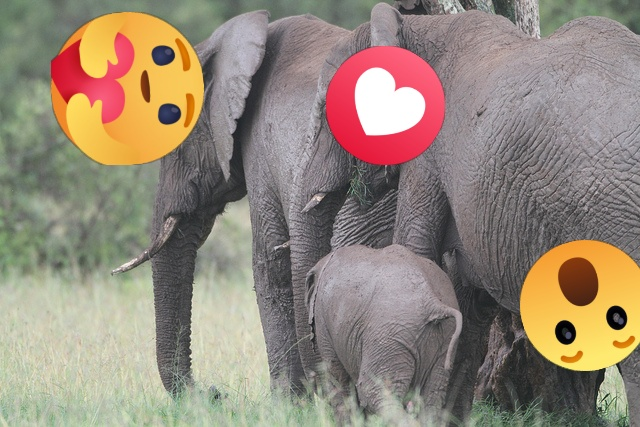care: (51, 12, 204, 165)
love: (326, 46, 445, 165)
wow: (520, 240, 640, 371)
